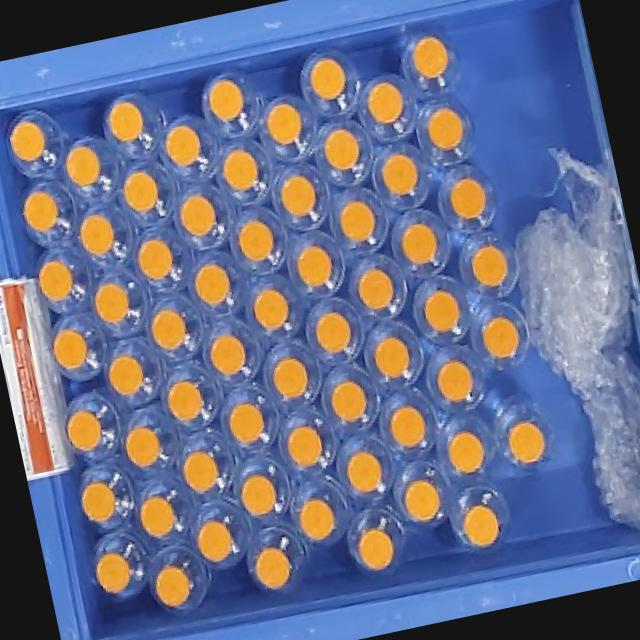vials: (154, 564, 192, 608), (507, 420, 545, 464), (366, 81, 404, 124), (381, 152, 418, 196), (209, 332, 246, 376), (423, 288, 460, 332), (482, 316, 520, 358), (309, 57, 346, 100), (323, 127, 360, 170), (237, 218, 274, 261), (296, 244, 333, 287), (357, 267, 394, 310), (436, 359, 473, 402), (139, 495, 176, 538), (357, 527, 394, 570), (427, 106, 463, 150), (280, 173, 316, 217), (448, 430, 484, 474), (265, 102, 302, 144), (179, 193, 216, 235), (339, 200, 376, 242), (400, 222, 437, 264), (314, 311, 351, 353), (182, 450, 219, 492), (240, 473, 277, 515), (462, 504, 499, 546), (208, 79, 244, 122), (165, 123, 201, 166), (66, 408, 102, 451), (373, 335, 409, 378), (389, 405, 425, 448), (95, 551, 131, 594), (196, 519, 232, 562), (255, 546, 291, 589), (412, 36, 448, 78), (65, 144, 101, 186), (122, 170, 158, 212), (79, 213, 115, 255), (450, 177, 486, 219), (150, 308, 186, 350), (472, 244, 508, 286), (167, 379, 203, 421), (330, 380, 366, 422), (298, 498, 334, 540), (346, 450, 382, 492), (223, 148, 258, 191), (287, 424, 322, 467), (23, 190, 59, 231), (137, 238, 173, 279), (108, 354, 144, 395), (272, 357, 308, 398), (125, 426, 161, 467), (228, 402, 264, 443), (404, 479, 440, 520), (194, 263, 229, 305), (253, 288, 288, 330), (81, 480, 116, 522), (108, 101, 143, 142), (38, 259, 72, 301), (10, 121, 45, 161), (94, 282, 128, 323), (53, 328, 87, 368)
